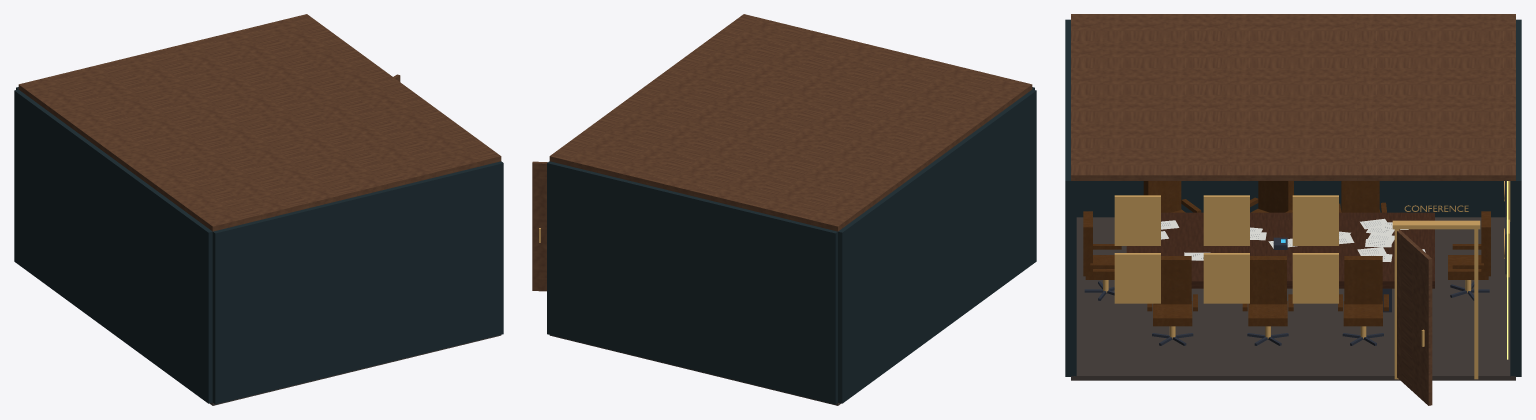
File: conference.glb
3 views of the same model, side by side, from view 1: azimuth 30°, elevation 25°; view 2: azimuth 150°, elevation 25°; view 3: azimuth 270°, elevation 25° (orthographic). The views are drawn at different scales.
Visible parts, largest first — view 1: Conference • ceiling, Conference • south wall, Conference • west wall, Conference • floor; view 2: Conference • ceiling, Conference • north wall, Conference • west wall, Conference • CONFERENCE door leaf; view 3: Conference • ceiling, Conference • floor, Conference • west wall, Conference • long walnut table, Conference • CONFERENCE door leaf, Conference • south wall, Conference • north wall, Conference • record frame.008, Conference • record frame.009, Conference • record frame.010, Conference • record frame.011, Conference • record frame.012 (+17 smaller).
Part boxes in pixels (x1,y1,x2,y2): Conference • ceiling: (18,14,501,231); Conference • south wall: (212,161,503,404); Conference • west wall: (14,89,212,403); Conference • floor: (210,335,501,405); Conference • ceiling: (549,14,1032,231); Conference • north wall: (547,161,837,404); Conference • west wall: (838,89,1036,403); Conference • CONFERENCE door leaf: (532,161,547,291); Conference • ceiling: (1071,14,1515,180); Conference • floor: (1071,217,1515,380); Conference • west wall: (1076,181,1504,217); Conference • long walnut table: (1126,212,1434,288); Conference • CONFERENCE door leaf: (1397,229,1432,405); Conference • south wall: (1065,19,1076,376); Conference • north wall: (1510,19,1521,376); Conference • record frame.008: (1114,253,1160,303); Conference • record frame.009: (1114,195,1160,245); Conference • record frame.010: (1203,253,1249,303); Conference • record frame.011: (1203,195,1249,245); Conference • record frame.012: (1292,253,1338,303).
Size of the model in its own units: 7.24 by 3.57 by 7.18.
12 materials, 3 textured.
